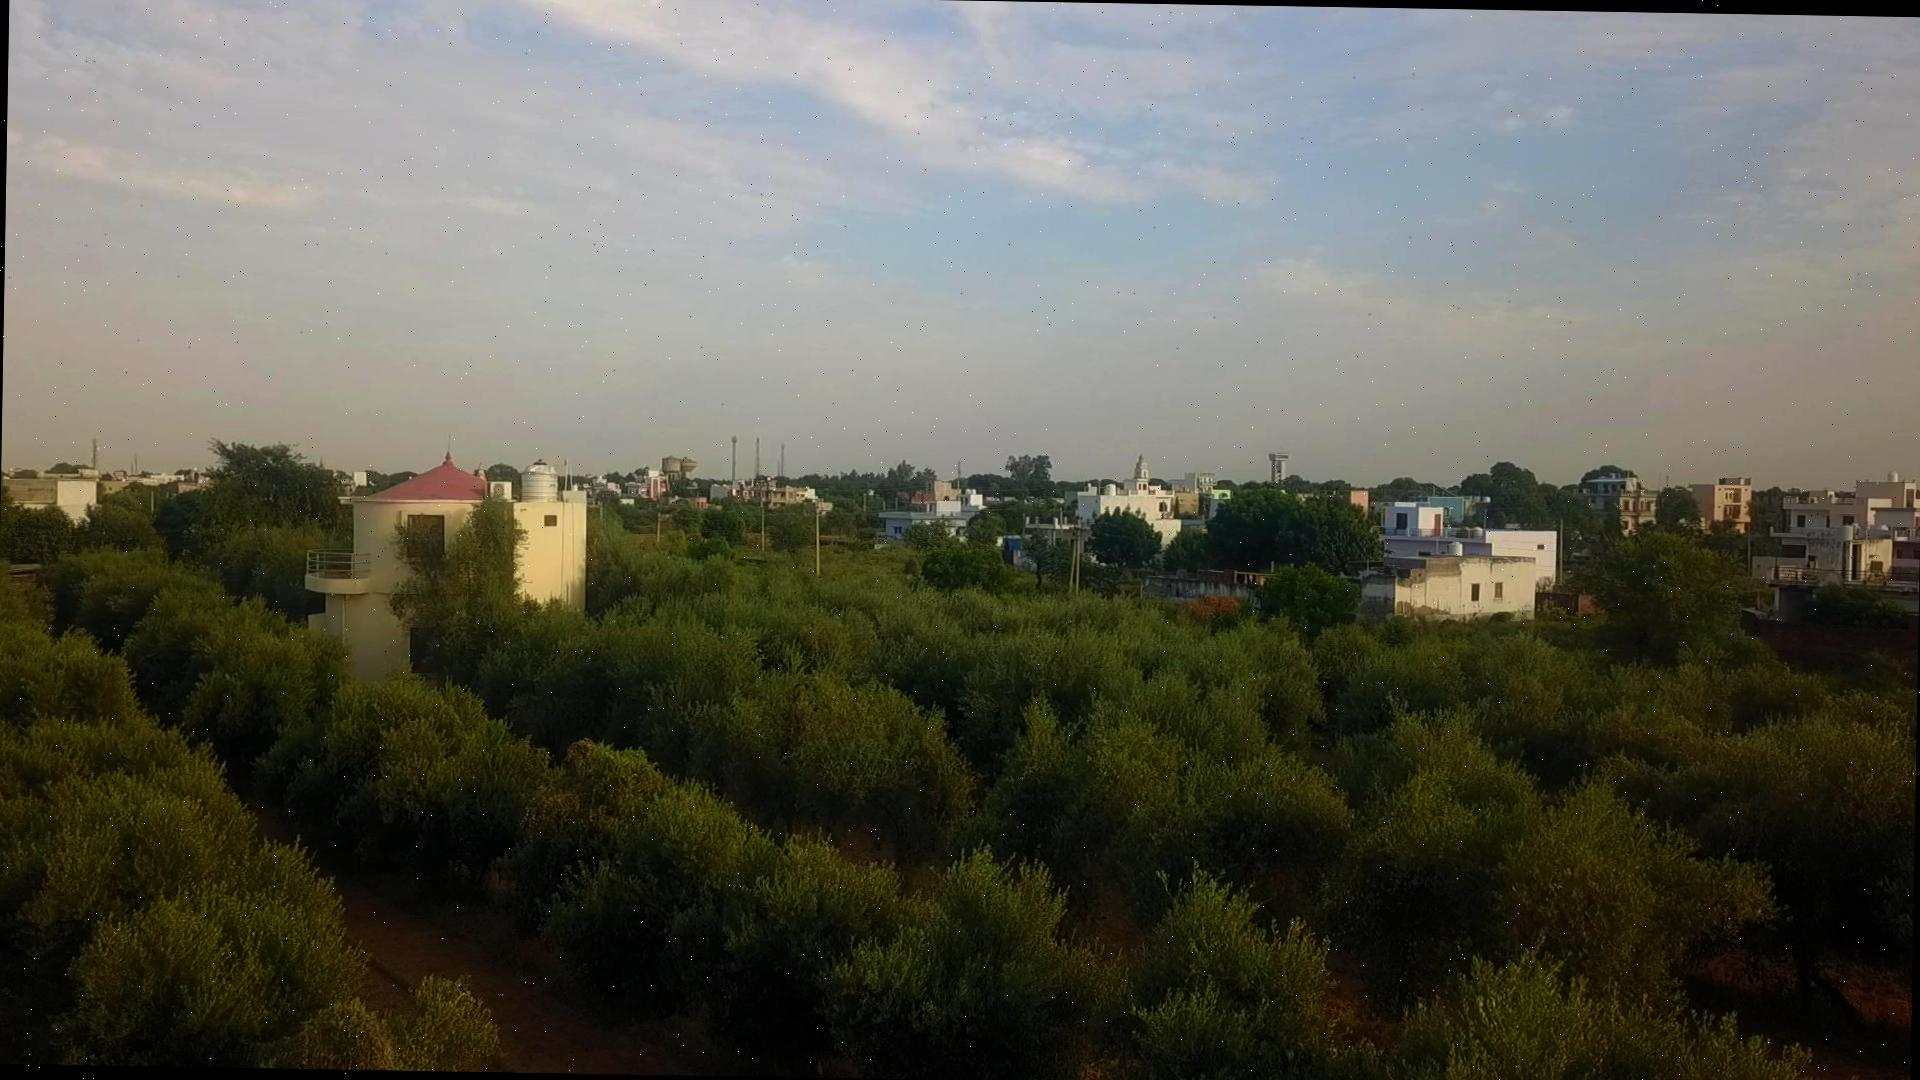canopy: (0, 551, 1817, 1080), (471, 609, 1774, 1004), (695, 591, 1775, 844)
road: (336, 874, 733, 1075)
